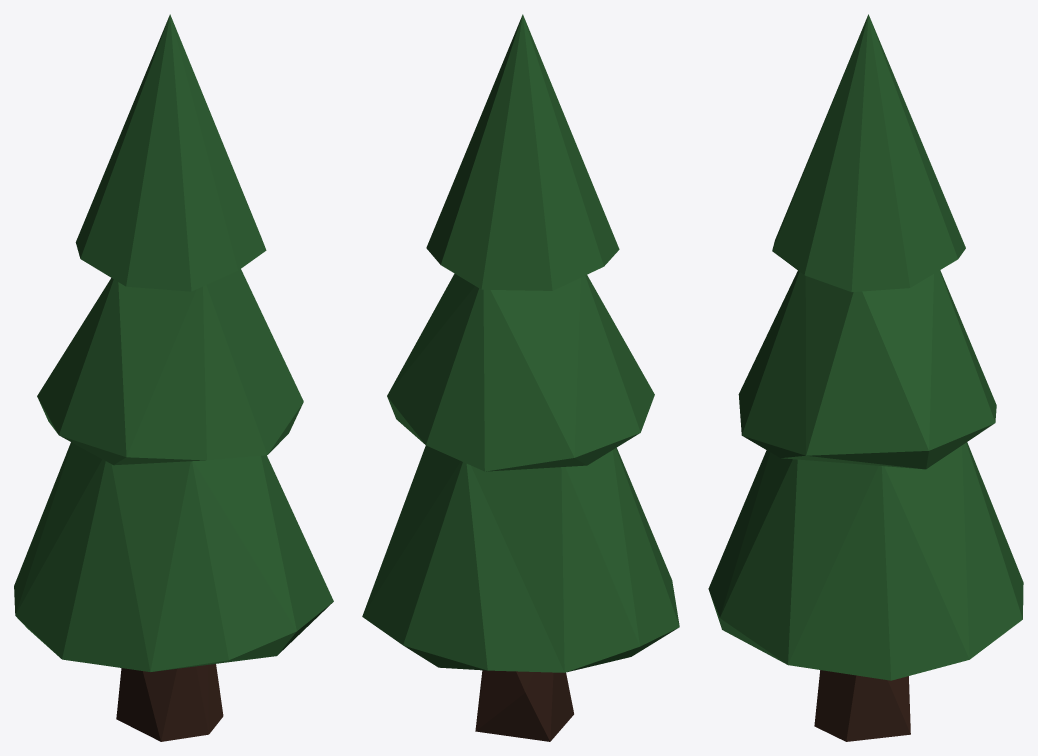
3 renders of one model, left to right at view 1: azimuth 30°, elevation 25°; view 2: azimuth 150°, elevation 25°; view 3: azimuth 270°, elevation 25°, orthographic.
Parts seen in each view (by area): view 1: Mesh_11.002_Mesh_11.1379; view 2: Mesh_11.002_Mesh_11.1379; view 3: Mesh_11.002_Mesh_11.1379.
Part boxes in pixels (x1,y1,x2,y2): Mesh_11.002_Mesh_11.1379: (14,14,333,741); Mesh_11.002_Mesh_11.1379: (362,14,679,741); Mesh_11.002_Mesh_11.1379: (708,14,1023,741).
Size of the model in its own units: 2.31 by 5.69 by 2.3.
